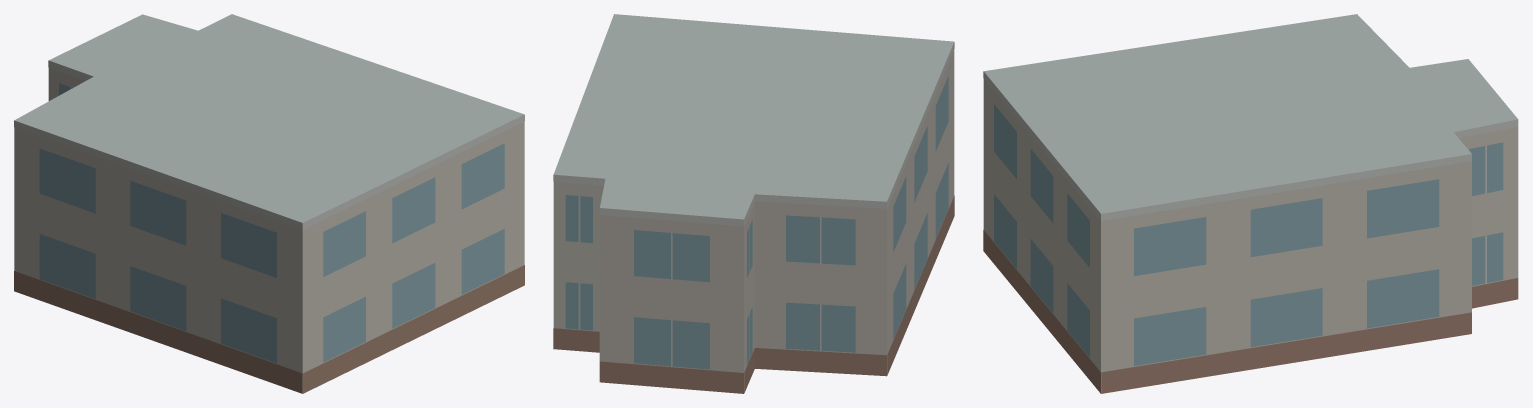
The model's file is survey-upis-32834775.glb.
3 renders of one model, left to right at view 1: azimuth 30°, elevation 25°; view 2: azimuth 150°, elevation 25°; view 3: azimuth 270°, elevation 25°, orthographic. The views are drawn at different scales.
Parts seen in each view (by area): view 1: survey-upis-32834775.tmp; view 2: survey-upis-32834775.tmp; view 3: survey-upis-32834775.tmp.
Part boxes in pixels (x1=…): survey-upis-32834775.tmp: x1=14, y1=14, x2=524, y2=393; survey-upis-32834775.tmp: x1=553, y1=14, x2=954, y2=393; survey-upis-32834775.tmp: x1=983, y1=14, x2=1518, y2=393.
Size of the model in its own units: 14.54 by 6.1 by 16.44.
